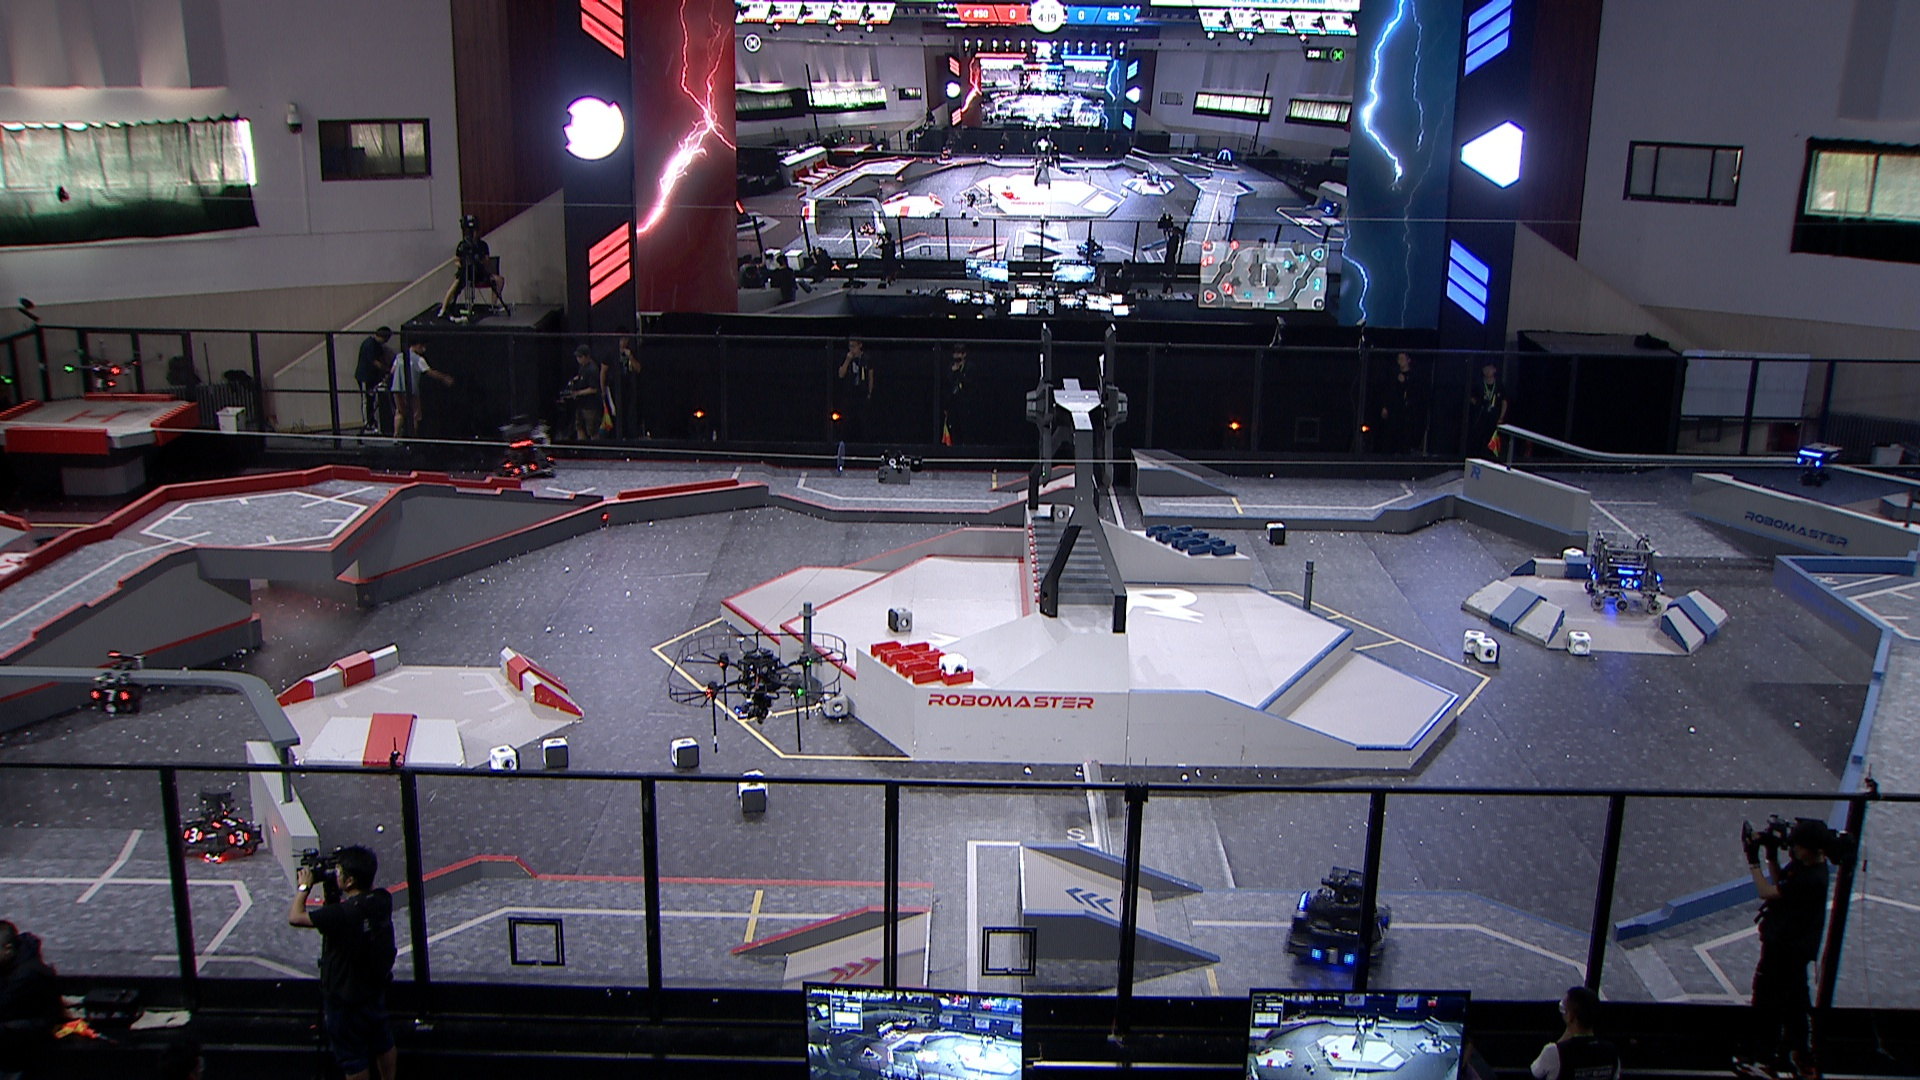armor: (1309, 944, 1358, 967), (88, 687, 131, 704), (1371, 918, 1390, 944), (225, 828, 251, 847), (182, 825, 206, 844), (212, 816, 245, 829), (1795, 456, 1822, 469), (513, 462, 537, 476), (1619, 578, 1640, 589)
car: (1284, 862, 1393, 973), (171, 787, 266, 865), (1584, 531, 1665, 616), (495, 414, 556, 485)
ignore: (1077, 237, 1105, 258), (736, 200, 754, 225), (1215, 146, 1234, 167), (1145, 167, 1162, 187), (1323, 200, 1342, 216), (858, 222, 877, 233), (836, 193, 851, 207), (939, 148, 953, 160), (1192, 150, 1204, 164)
watcher: (87, 651, 149, 713), (1795, 442, 1842, 489)
